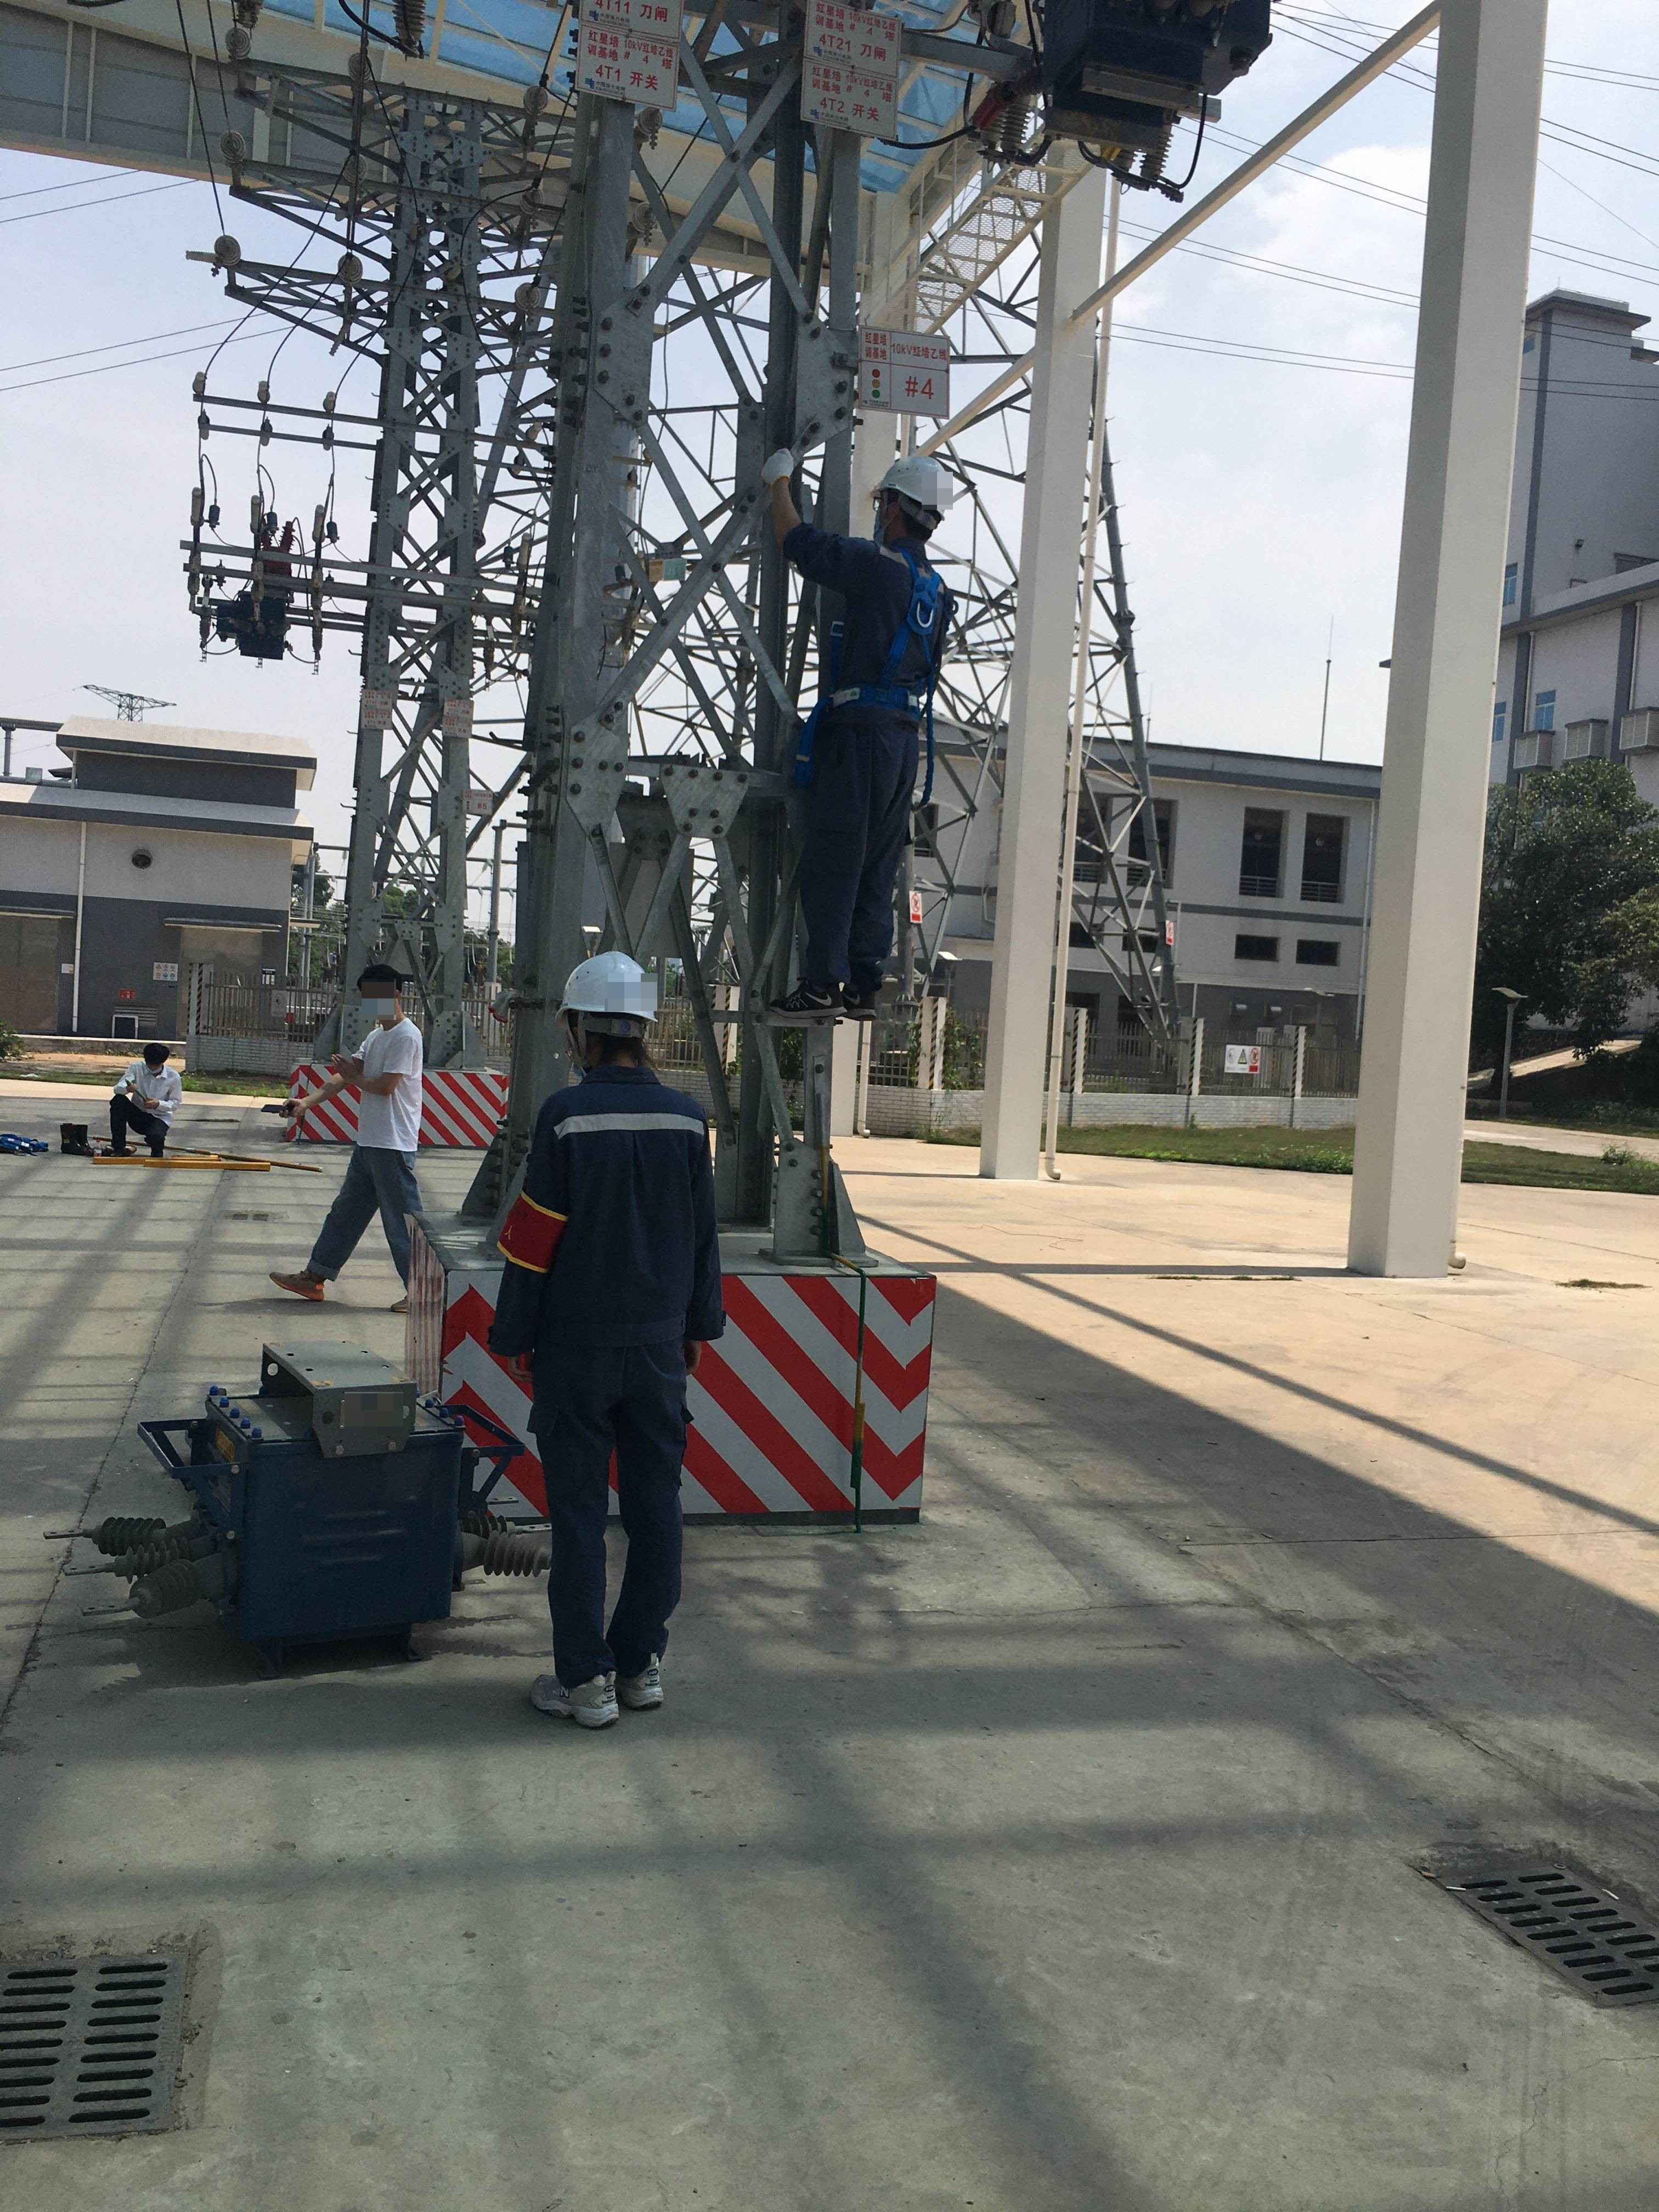downcloth: (308, 1157, 436, 1285), (106, 1094, 171, 1157)
downsuit: (518, 1381, 697, 1683), (784, 738, 924, 993)
upcloth: (342, 1022, 429, 1151), (110, 1062, 186, 1115)
upsuit: (486, 1073, 737, 1355), (789, 533, 951, 718)
wrongtop: (765, 479, 828, 563)
